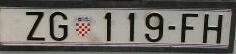-: (167, 25, 176, 31)
1: (103, 11, 112, 42), (128, 12, 135, 41)
9: (144, 12, 163, 42)
F: (182, 13, 198, 43)
G: (49, 12, 69, 43)
H: (203, 14, 221, 44)
Z: (25, 12, 45, 41)
